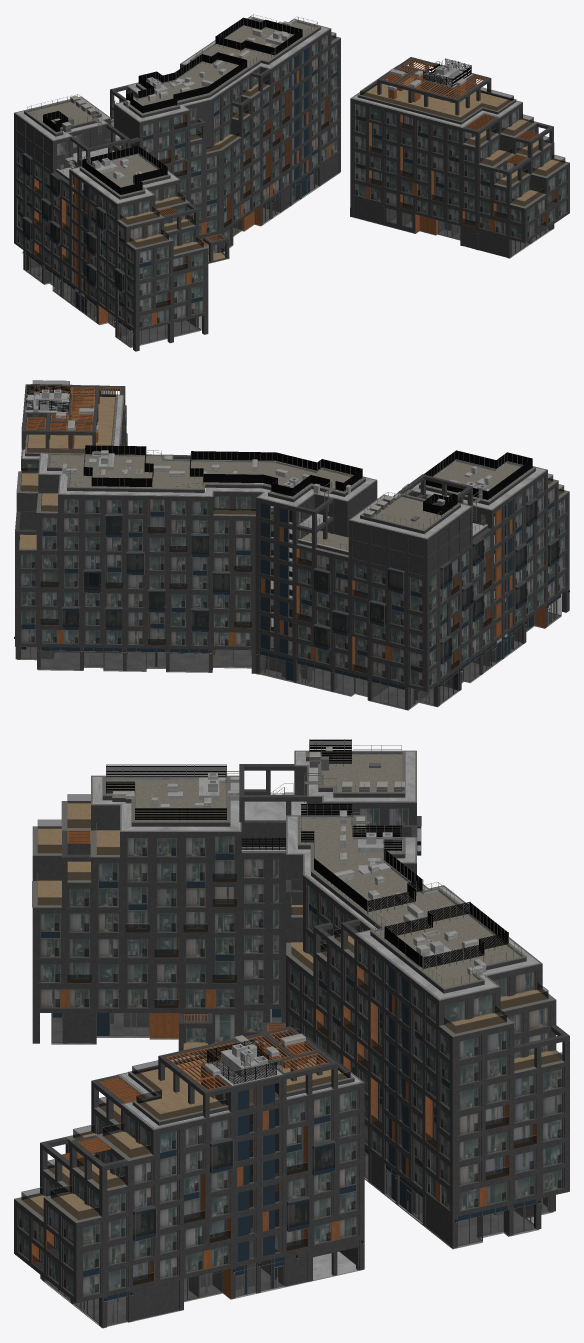
The model's file is BRA_SPOT_B10glb.glb.
The picture shows the model from 3 angles, top to bottom: view 1: azimuth 30°, elevation 25°; view 2: azimuth 150°, elevation 25°; view 3: azimuth 270°, elevation 25°; orthographic projection. The views are drawn at different scales.
Parts seen in each view (by area): view 1: SM_B10_Fasade_012, SM_B10_Fasade_005, SM_B10_Fasade_001, SM_B10_Fasade_010, SM_B10_Roof_002, SM_B10_Fasade_006, SM_B10_Roof_001, SM_B10_Roof_003, SM_B10_Fasade_002, SM_B10_Interior_fl1, SM_B10_Roof_004, SM_B10_Base_001; view 2: SM_B10_Fasade_008, SM_B10_Fasade_009, SM_B10_Fasade_001, SM_B10_Roof_002, SM_B10_Interior_fl1, SM_B10_Roof_001, SM_B10_Roof_003, SM_B10_Roof_004, SM_B10_Fasade_002, SM_B10_Fasade_007, SM_B10_Base_001, SM_B10_Fasade_012; view 3: SM_B10_Fasade_003, SM_B10_Fasade_011, SM_B10_Fasade_012, SM_B10_Fasade_007, SM_B10_Roof_002, SM_B10_Fasade_006, SM_B10_Roof_001, SM_B10_Roof_003, SM_B10_Fasade_010, SM_B10_Roof_004, SM_B10_Interior_fl1, SM_B10_Fasade_002 (+2 smaller).
Part boxes in pixels (x1=…): SM_B10_Fasade_012: x1=139, y1=29, x2=340, y2=263; SM_B10_Fasade_005: x1=350, y1=98, x2=525, y2=258; SM_B10_Fasade_001: x1=14, y1=113, x2=135, y2=351; SM_B10_Fasade_010: x1=117, y1=180, x2=208, y2=351; SM_B10_Roof_002: x1=110, y1=14, x2=330, y2=147; SM_B10_Fasade_006: x1=462, y1=102, x2=569, y2=257; SM_B10_Roof_001: x1=350, y1=57, x2=522, y2=128; SM_B10_Roof_003: x1=53, y1=138, x2=180, y2=204; SM_B10_Fasade_002: x1=53, y1=85, x2=139, y2=184; SM_B10_Interior_fl1: x1=27, y1=171, x2=549, y2=346; SM_B10_Roof_004: x1=14, y1=94, x2=110, y2=140; SM_B10_Base_001: x1=25, y1=173, x2=339, y2=347; SM_B10_Fasade_008: x1=15, y1=491, x2=262, y2=672; SM_B10_Fasade_009: x1=255, y1=498, x2=433, y2=709; SM_B10_Fasade_001: x1=427, y1=470, x2=569, y2=706; SM_B10_Roof_002: x1=38, y1=445, x2=376, y2=557; SM_B10_Interior_fl1: x1=21, y1=599, x2=559, y2=707; SM_B10_Roof_001: x1=21, y1=380, x2=124, y2=459; SM_B10_Roof_003: x1=410, y1=450, x2=547, y2=543; SM_B10_Roof_004: x1=349, y1=483, x2=472, y2=539; SM_B10_Fasade_002: x1=296, y1=474, x2=489, y2=549; SM_B10_Fasade_007: x1=15, y1=467, x2=59, y2=659; SM_B10_Base_001: x1=17, y1=615, x2=561, y2=710; SM_B10_Fasade_012: x1=84, y1=455, x2=292, y2=635; SM_B10_Fasade_003: x1=76, y1=1074, x2=364, y2=1327; SM_B10_Fasade_011: x1=32, y1=832, x2=285, y2=1054; SM_B10_Fasade_012: x1=262, y1=854, x2=452, y2=1248; SM_B10_Fasade_007: x1=439, y1=964, x2=569, y2=1248; SM_B10_Roof_002: x1=241, y1=804, x2=542, y2=1000; SM_B10_Fasade_006: x1=14, y1=1075, x2=153, y2=1325; SM_B10_Roof_001: x1=117, y1=1026, x2=364, y2=1130; SM_B10_Roof_003: x1=91, y1=764, x2=306, y2=831; SM_B10_Fasade_010: x1=32, y1=794, x2=119, y2=1042; SM_B10_Roof_004: x1=294, y1=739, x2=416, y2=802; SM_B10_Interior_fl1: x1=46, y1=1009, x2=548, y2=1324; SM_B10_Fasade_002: x1=239, y1=764, x2=416, y2=846.
Bounding box in the file's own units: 102 × 35.02 × 68.92.
Materials: 28 (22 with a texture image).
